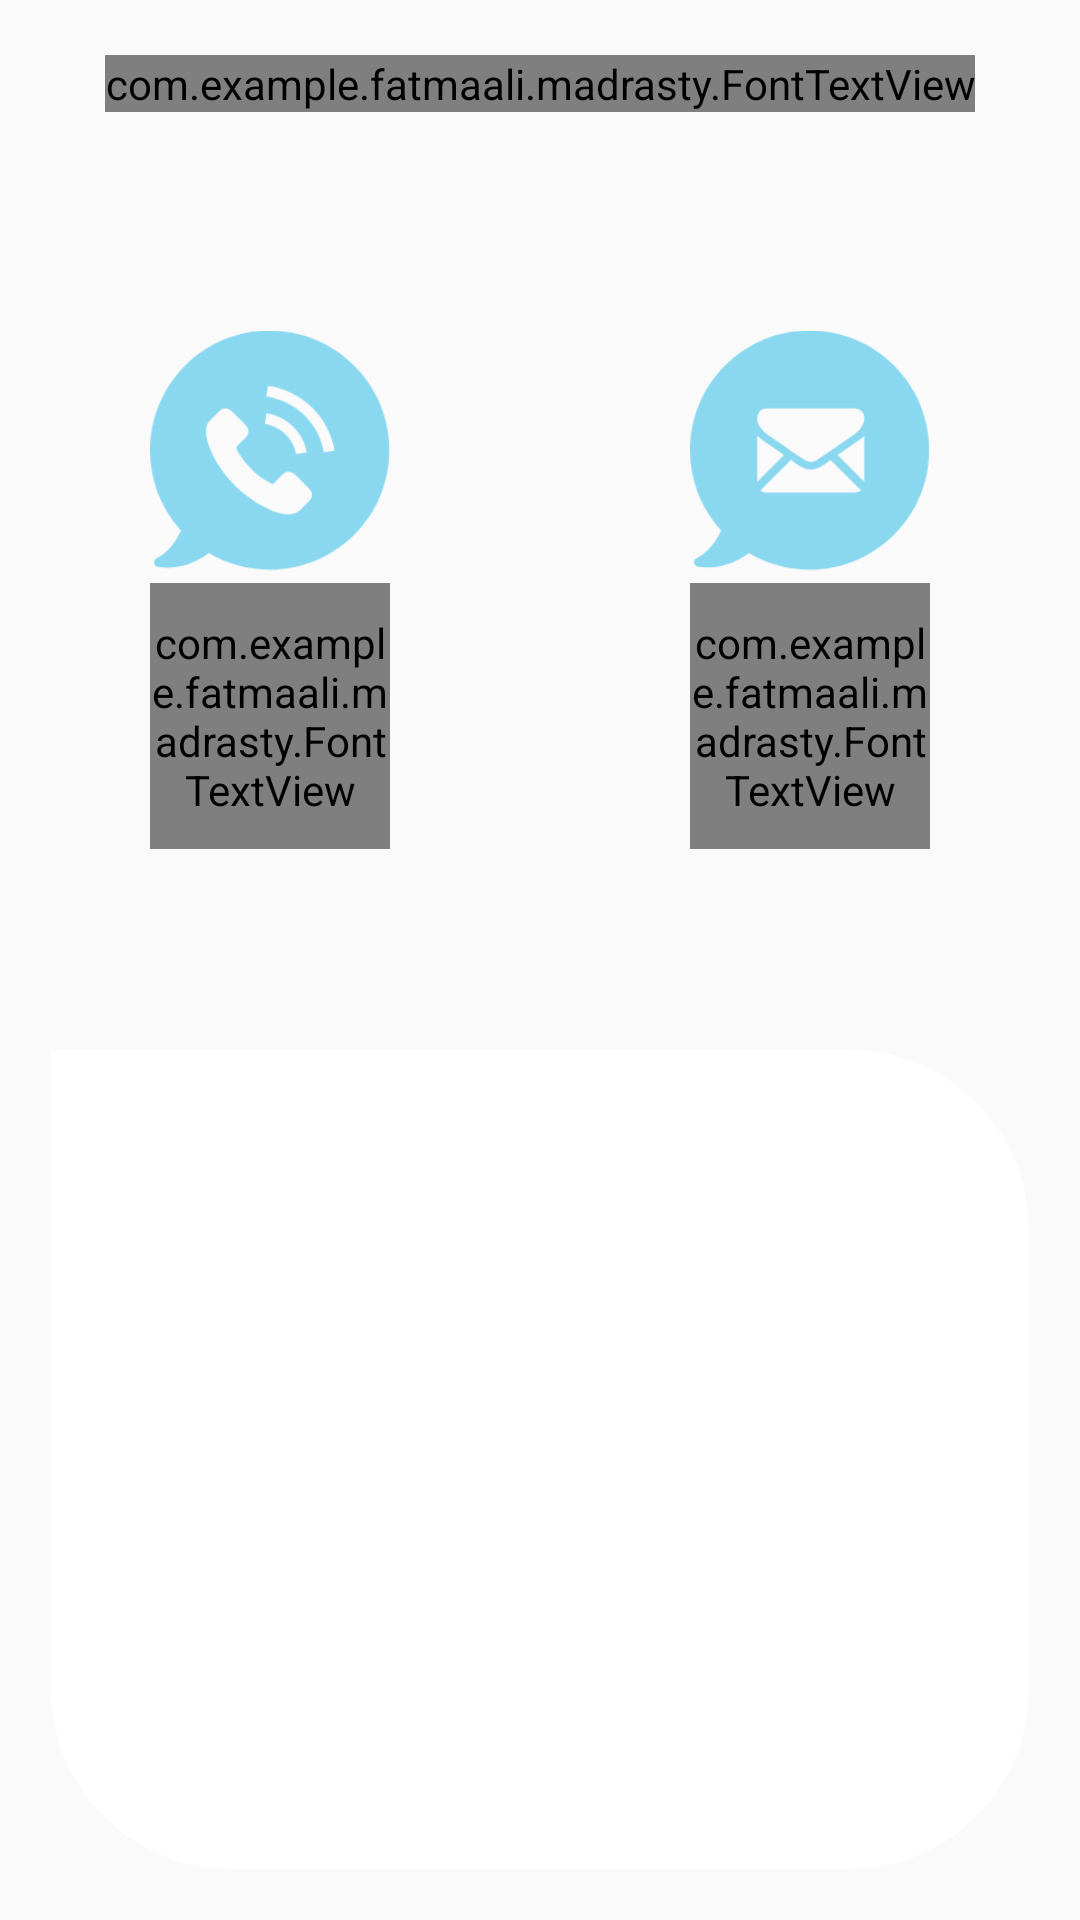

Where to tap for icons on this 1080px x 1920px app screen, as [x,y]:
call: [270,451]
message: [809,451]
